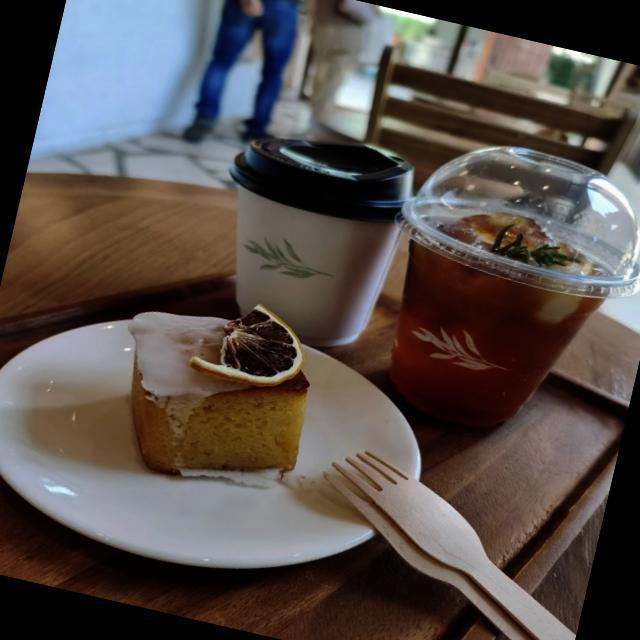cup: (377, 137, 640, 456)
